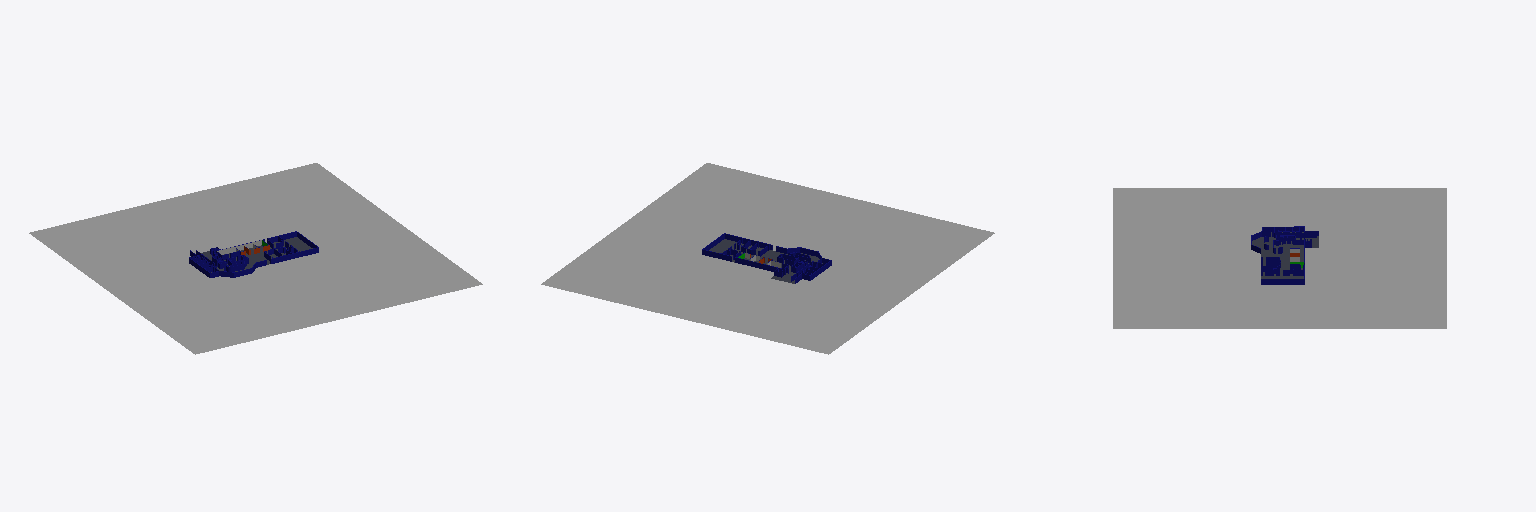
Rendered from Plan2.obj.
3 views of the same model, side by side, from view 1: azimuth 30°, elevation 25°; view 2: azimuth 150°, elevation 25°; view 3: azimuth 270°, elevation 25° (orthographic).
Visible parts, largest first — view 1: Plane, Murs_CUColor_Fill_1, Sol_CUColor_Fill_2; view 2: Plane, Murs_CUColor_Fill_1, Sol_CUColor_Fill_2; view 3: Plane, Murs_CUColor_Fill_1, Sol_CUColor_Fill_2.
Part boxes in pixels (x1,y1,x2,y2): Plane: (29, 163, 482, 354); Murs_CUColor_Fill_1: (189, 231, 318, 277); Sol_CUColor_Fill_2: (201, 237, 312, 272); Plane: (541, 163, 994, 354); Murs_CUColor_Fill_1: (702, 233, 831, 283); Sol_CUColor_Fill_2: (709, 239, 822, 283); Plane: (1113, 188, 1446, 328); Murs_CUColor_Fill_1: (1251, 226, 1318, 284); Sol_CUColor_Fill_2: (1252, 232, 1318, 278).
Bounding box in the file's own units: 172 × 3.06 × 172.